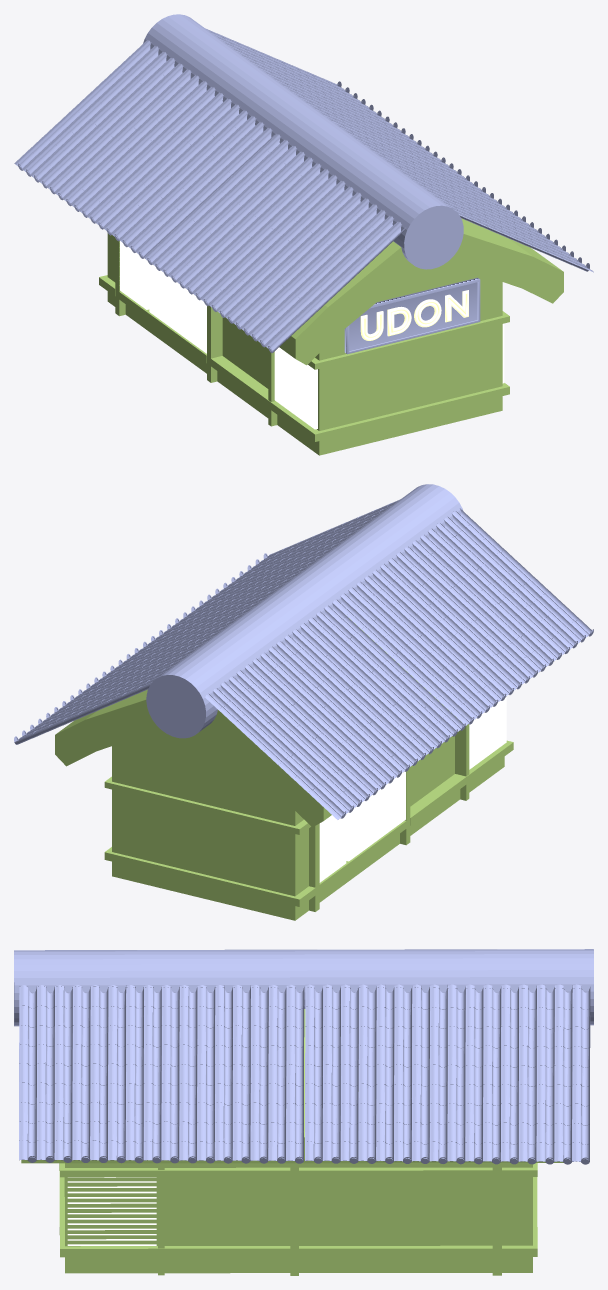
Rendered from udon.fbx.
3 views of the same model, one above another, from view 1: azimuth 30°, elevation 25°; view 2: azimuth 150°, elevation 25°; view 3: azimuth 270°, elevation 25° (orthographic). The views are drawn at different scales.
Visible parts, largest first — view 1: Cube.008, Cube.025, Cube.009, Cube.026, Cube.028, OFFICE.001, Cube.027; view 2: Cube.008, Cube.025, Cube.026, Cube.028, Cube.027; view 3: Cube.008, Cube.025, Cube.029.
Boxes of the visible parts, box(x1,y1,x2,y2) form: Cube.008: box(14, 14, 593, 353); Cube.025: box(99, 218, 563, 455); Cube.009: box(344, 277, 480, 354); Cube.026: box(149, 264, 206, 353); Cube.028: box(274, 347, 317, 429); OFFICE.001: box(360, 290, 468, 340); Cube.027: box(120, 241, 149, 309); Cube.008: box(14, 484, 593, 819); Cube.025: box(55, 615, 513, 920); Cube.026: box(346, 771, 405, 861); Cube.028: box(469, 696, 506, 769); Cube.027: box(319, 814, 346, 882); Cube.008: box(14, 949, 593, 1164); Cube.025: box(21, 1009, 563, 1275); Cube.029: box(67, 1177, 156, 1245).
Bounding box in the file's own units: 531 × 379 × 737.
